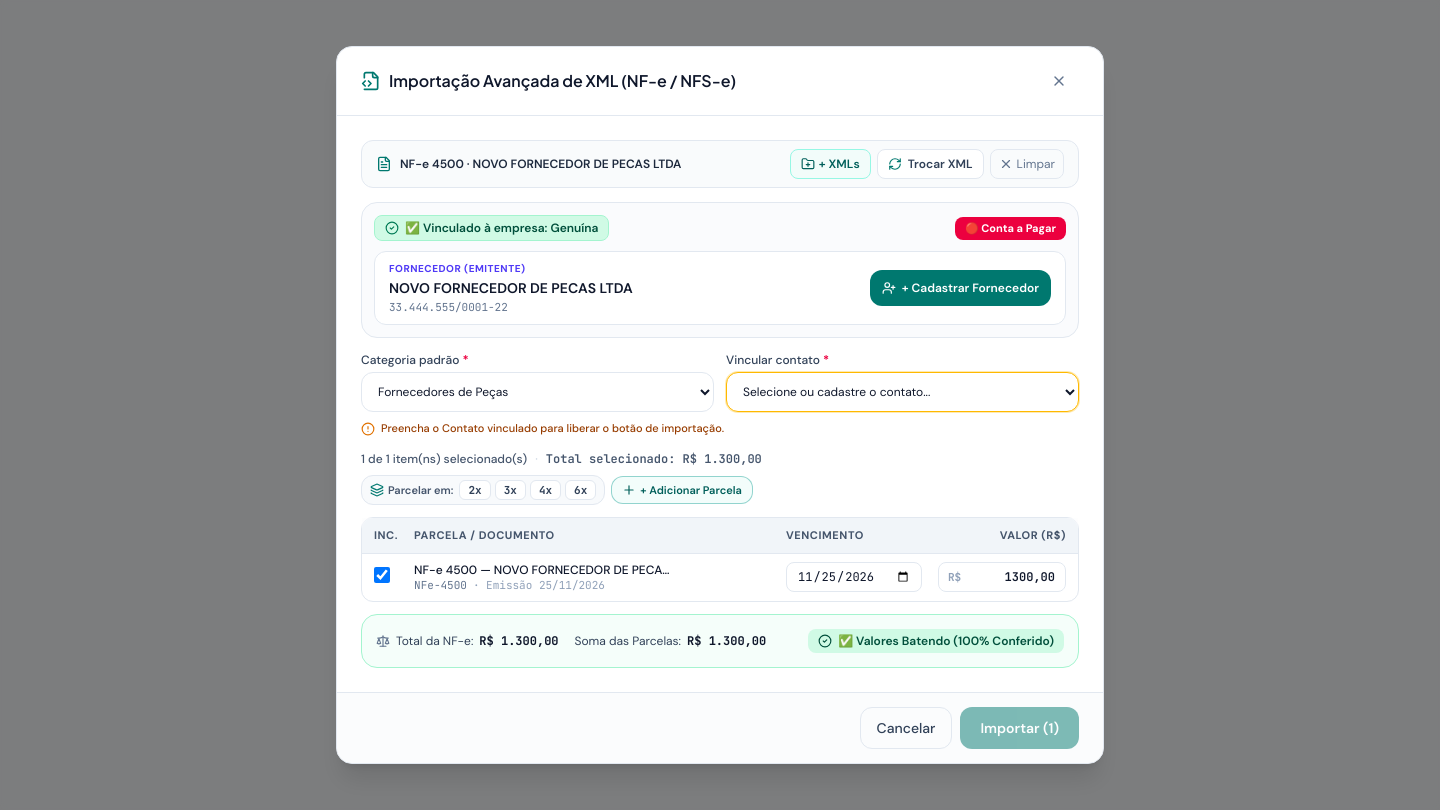
it: XmlImport & Financial Integrity Suite (Phase 11.1.2) › XmlImportModal blocks [Importar] until Category and Contact are bound, auto-suggests Category, and supports Flexible Installments (+ Adicionar Parcela & 3x spli
The image size is (1440, 810).
Earlier steps of the test are not shown.
Later steps or results of the test are not shown.
Expected: the element with test id "xml-destination-fields" is shown, [361,352,1079,437]
Expected: the dropdown with test id "xml-destination-category" shows "Fornecedores de Peças", [361,372,714,412]
Select "[PJ] FORNECEDOR UM LTDA" in the dropdown with test id "xml-destination-contact" at coordinates (902, 392), box [726,372,1079,412]
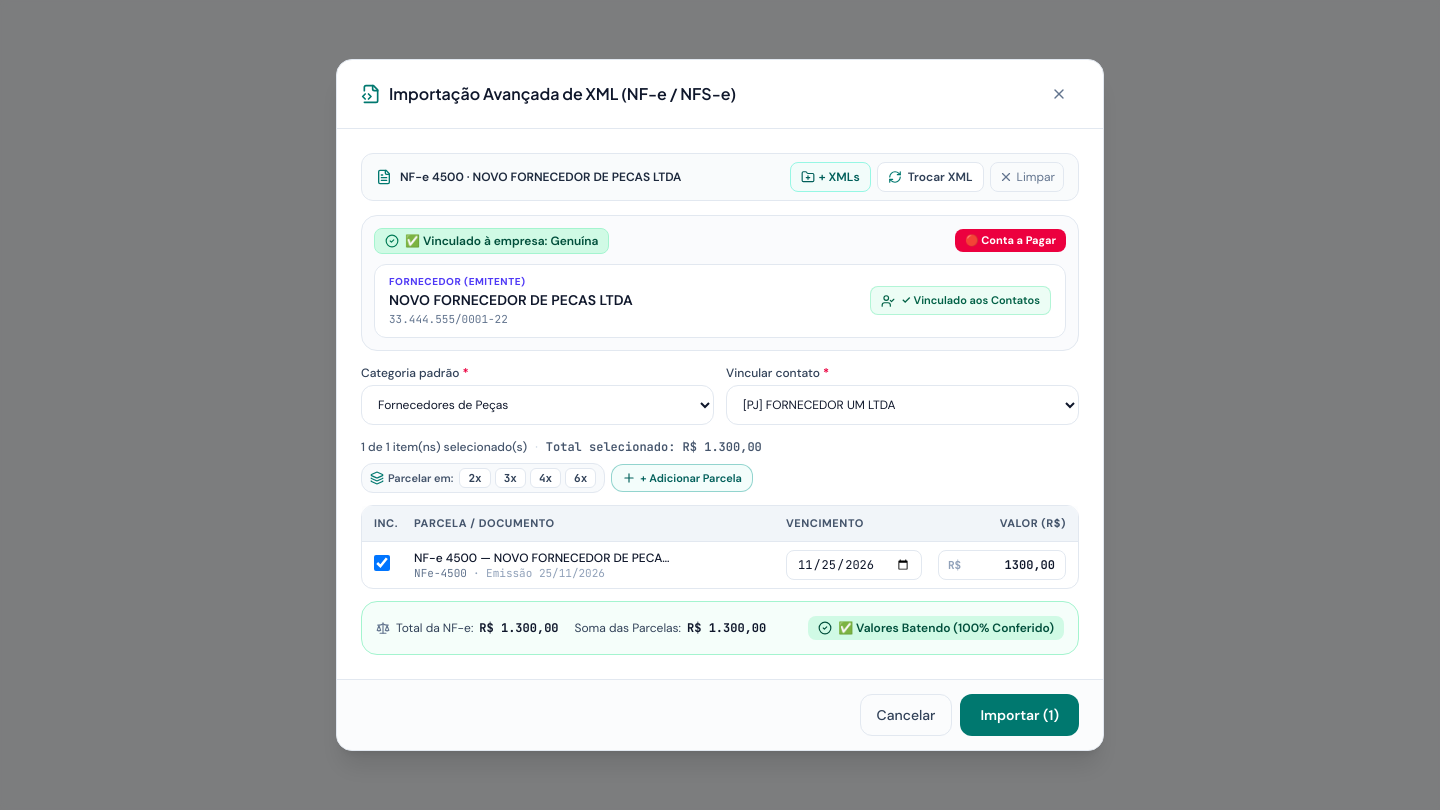
Expected: the button with test id "xml-confirm-import-btn" is enabled, [960,694,1079,736]
Replace the text in the field with test id "xml-amount-input-" with "600,00" at coordinates (1002, 565), box [938,550,1066,580]
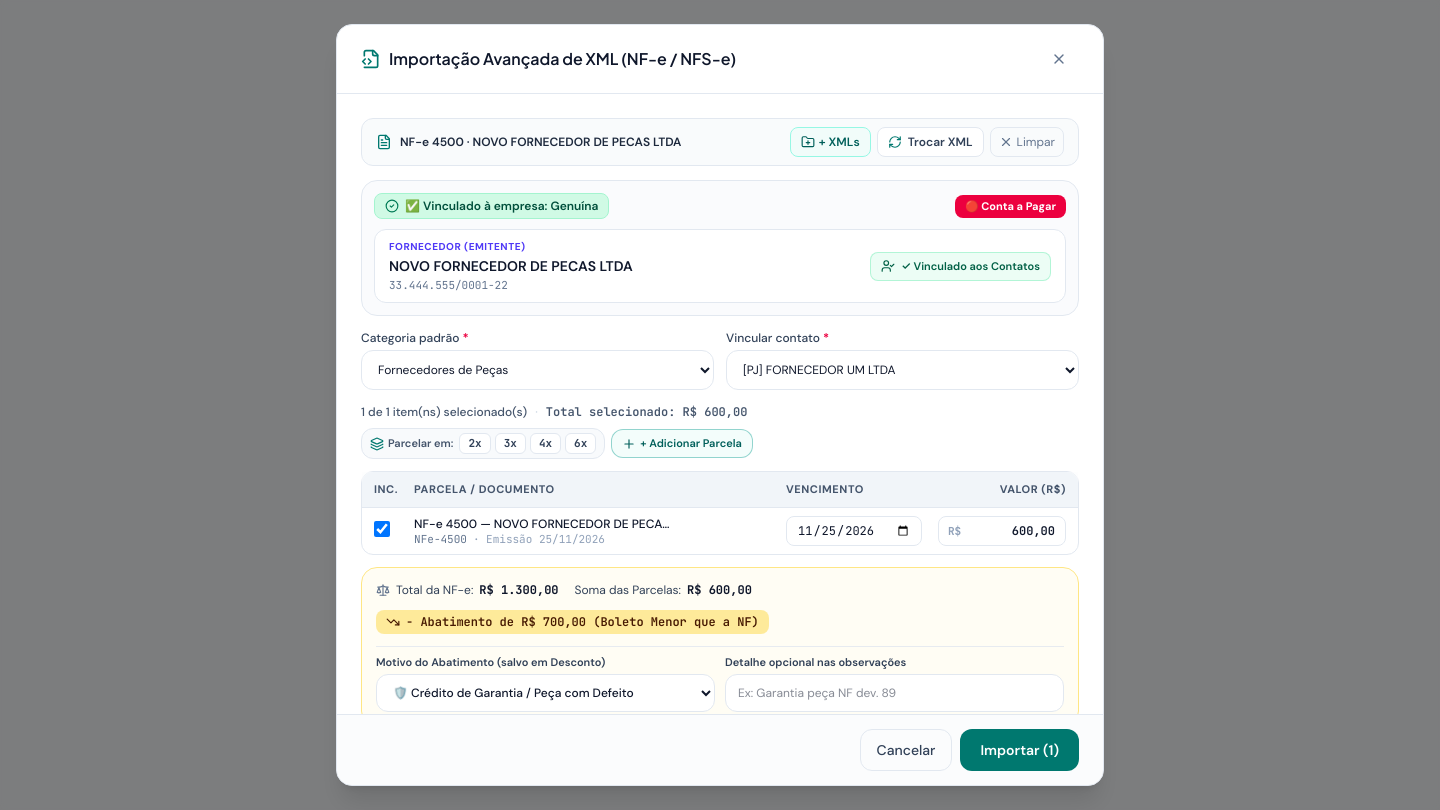
Click the button with test id "xml-add-installment-btn".
click(682, 444)  # box [611,429,753,458]
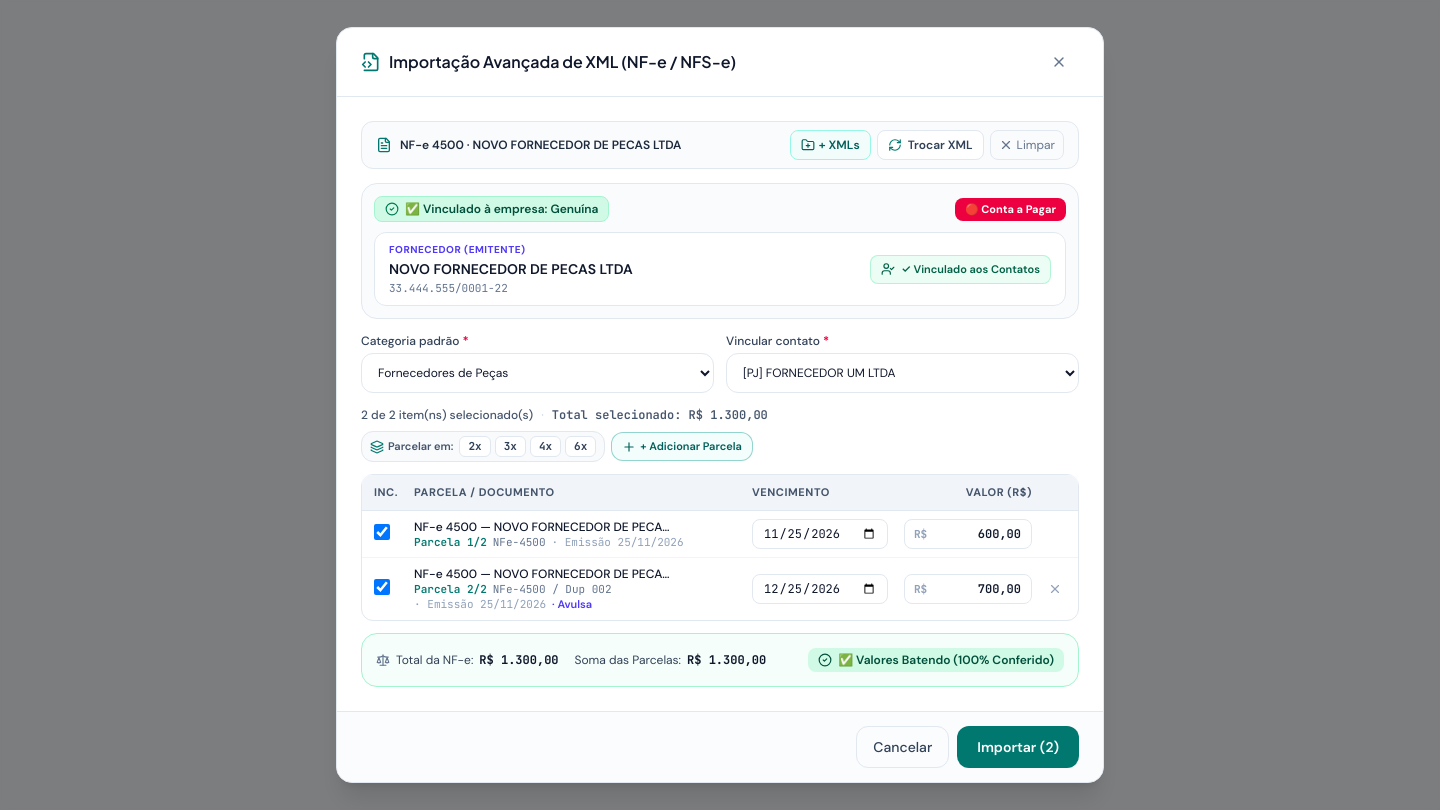
Expected: the element with test id "xml-reconciliation-exact-badge" shows "Valores Batendo (100% Conferido)", [838,652,1054,668]
